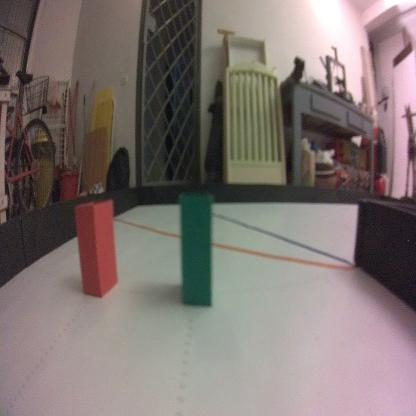green: (175, 186, 215, 312)
red: (72, 199, 120, 300)
